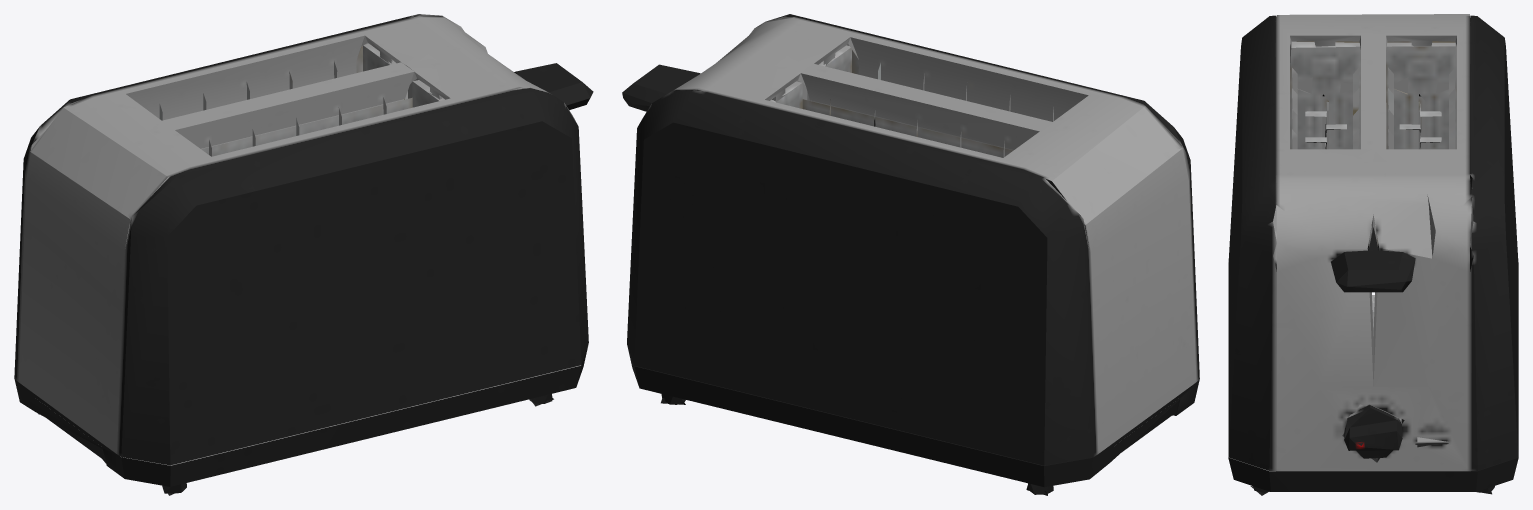
Rendered from appliance_toaster_a01.glb.
3 renders of one model, left to right at view 1: azimuth 30°, elevation 25°; view 2: azimuth 150°, elevation 25°; view 3: azimuth 270°, elevation 25°, orthographic. The views are drawn at different scales.
Parts seen in each view (by area): view 1: appliance_toaster_a01_lod1; view 2: appliance_toaster_a01_lod1; view 3: appliance_toaster_a01_lod1.
Boxes of the visible parts, x1=… form: appliance_toaster_a01_lod1: x1=14, y1=14, x2=593, y2=495; appliance_toaster_a01_lod1: x1=622, y1=14, x2=1199, y2=495; appliance_toaster_a01_lod1: x1=1228, y1=14, x2=1518, y2=495.
Size of the model in its own units: 0.3064 by 0.1786 by 0.1544.
Materials: 1 (1 with a texture image).
